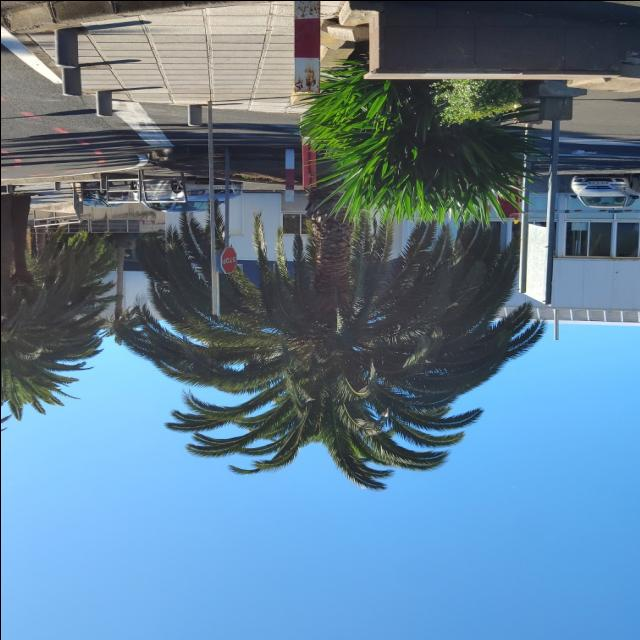Palm-Trees: (123, 155, 529, 483)
